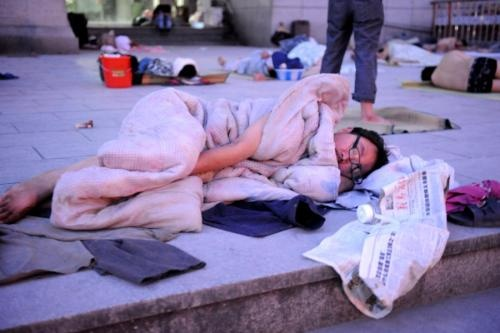falling: (98, 40, 206, 88)
